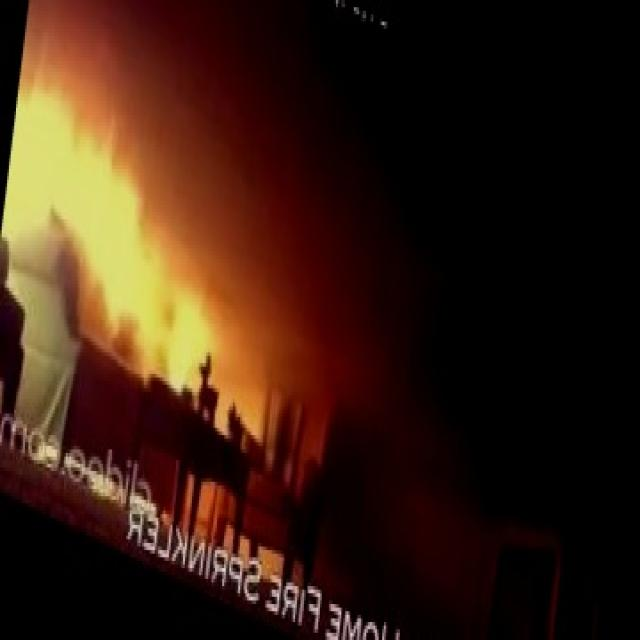fire: (0, 43, 297, 442)
